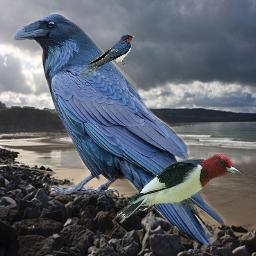Crow: (10, 11, 226, 245)
Swallow: (80, 34, 135, 80)
Woodpecker: (112, 148, 246, 226)
